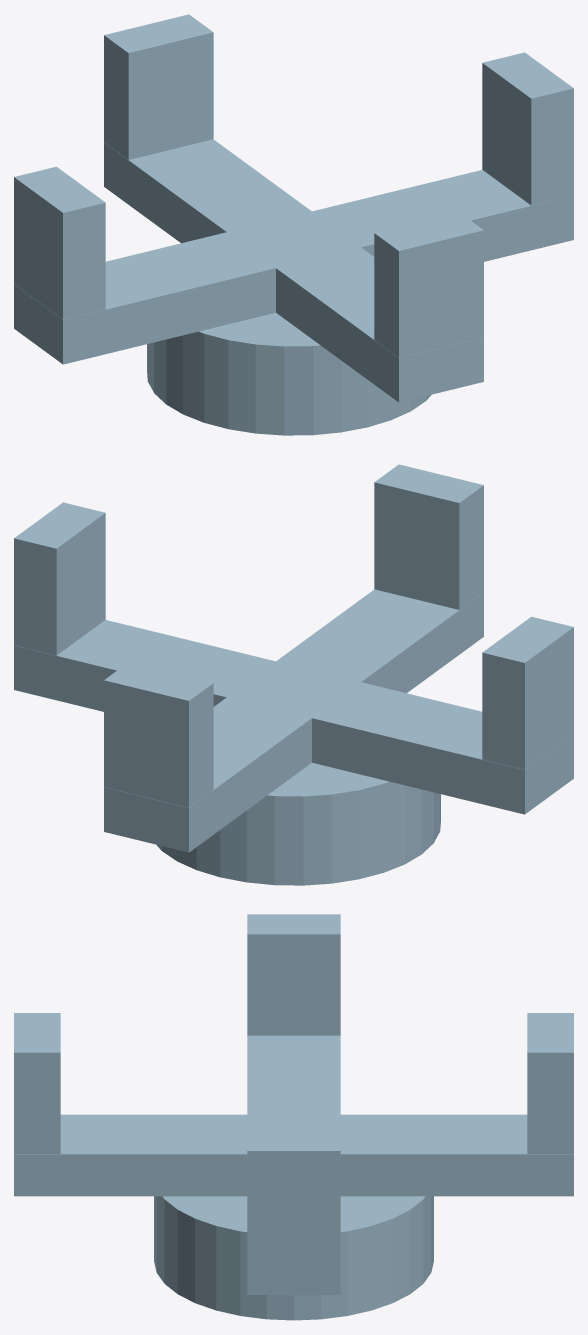
Rendered from rubiktool.dae.
3 views of the same model, one above another, from view 1: azimuth 30°, elevation 25°; view 2: azimuth 150°, elevation 25°; view 3: azimuth 270°, elevation 25° (orthographic). The views are drawn at different scales.
Parts seen in each view (by area): view 1: Cube, Cube_005, Cylinder, Cube_004, Cube_003, Cube_001, Cube_002; view 2: Cube_005, Cube, Cylinder, Cube_003, Cube_004, Cube_001, Cube_002; view 3: Cube_005, Cylinder, Cube, Cube_001, Cube_002, Cube_003, Cube_004.
Boxes of the visible parts, box(x1,y1,x2,y2) form: Cube: box(14, 170, 573, 364); Cube_005: box(104, 139, 483, 402); Cylinder: box(147, 313, 431, 435); Cube_004: box(104, 14, 213, 159); Cube_003: box(374, 212, 483, 357); Cube_001: box(482, 52, 573, 205); Cube_002: box(14, 166, 105, 319); Cube_005: box(104, 589, 483, 852); Cube: box(14, 620, 573, 814); Cylinder: box(156, 763, 440, 885); Cube_003: box(374, 464, 483, 609); Cube_004: box(104, 662, 213, 807); Cube_001: box(14, 502, 105, 655); Cube_002: box(482, 616, 573, 769); Cube_005: box(14, 1114, 573, 1196); Cylinder: box(154, 1196, 433, 1320); Cube: box(247, 1035, 340, 1294); Cube_001: box(247, 1131, 340, 1252); Cube_002: box(247, 914, 340, 1035); Cube_003: box(14, 1013, 60, 1153); Cube_004: box(527, 1013, 573, 1153).
Size of the model in its own units: 0.12 by 0.12 by 0.054.
